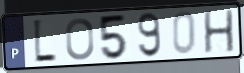0: (171, 9, 198, 57)
5: (98, 12, 130, 62)
9: (136, 11, 164, 60)
H: (202, 8, 236, 55)
L: (31, 17, 58, 66)
O: (64, 16, 96, 62)
